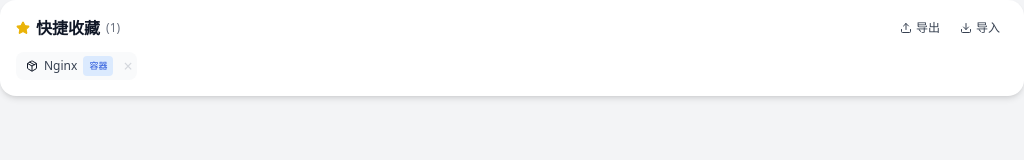
it: FavoritesCard › 点击移除按钮后该条消失
Click the button named "移除收藏 Nginx": x=128, y=66 [123, 58, 133, 74]
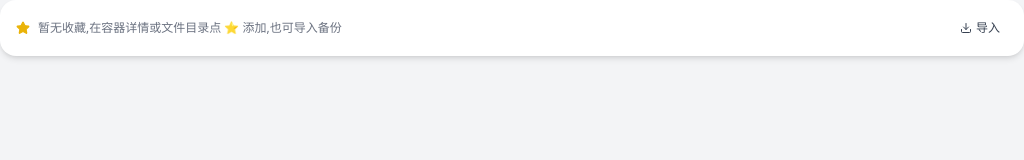
Check: the link "Nginx" is gone
